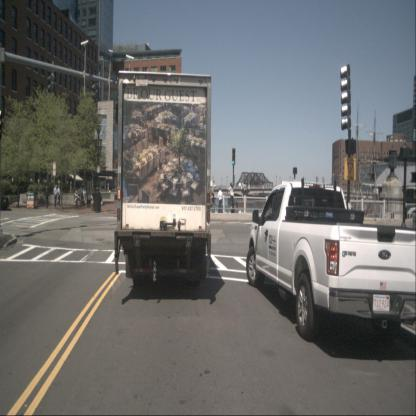human-pedestrian-adult: (216, 187, 223, 216), (228, 182, 234, 210), (43, 186, 50, 208), (56, 184, 62, 209), (209, 188, 214, 217), (53, 184, 58, 208), (79, 186, 84, 207), (74, 190, 79, 206), (83, 188, 86, 201), (414, 193, 416, 203)
vehicle-car: (0, 190, 10, 214)
vehicle-truck: (246, 183, 416, 340), (114, 69, 212, 286)
